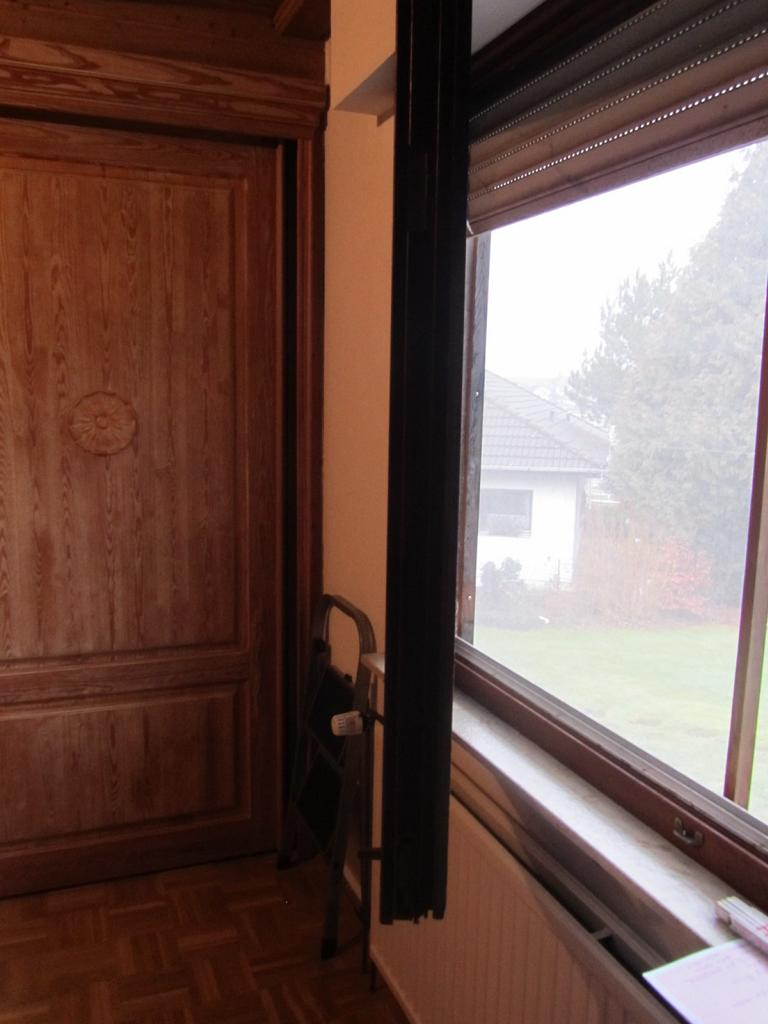windows: (461, 158, 768, 824)
